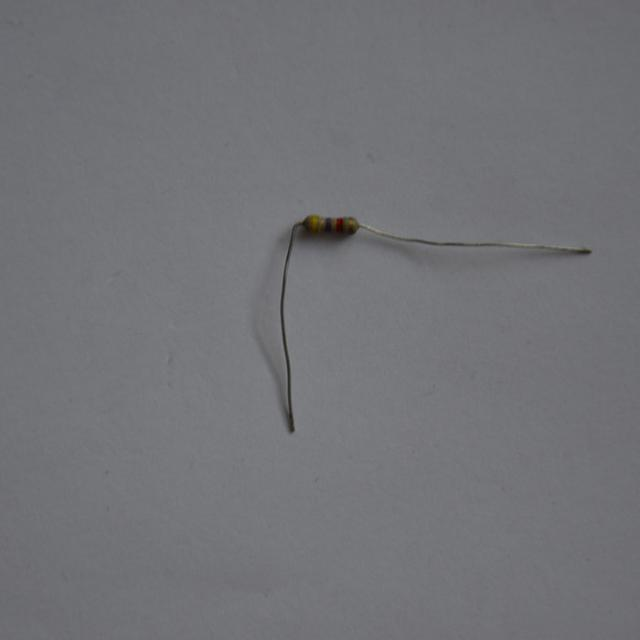gold: (349, 217, 354, 232)
red: (337, 218, 343, 232)
resistor: (297, 206, 364, 239)
violet: (325, 216, 331, 231)
yellow: (313, 215, 318, 232)
